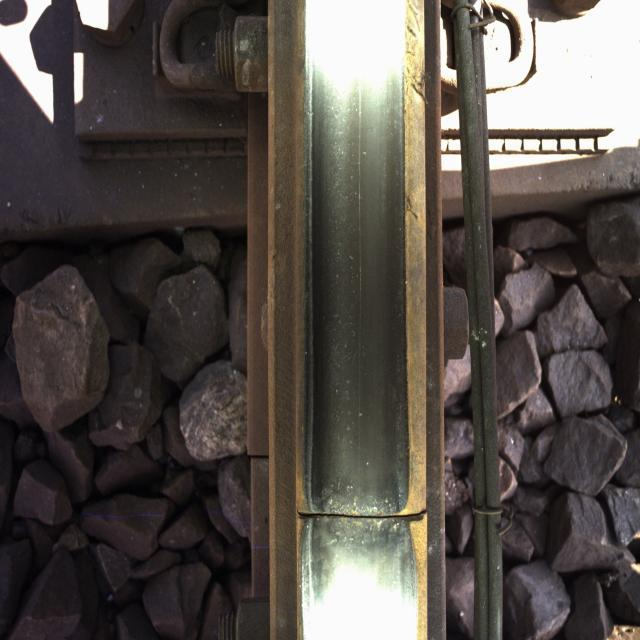spalling: (280, 451, 441, 579)
